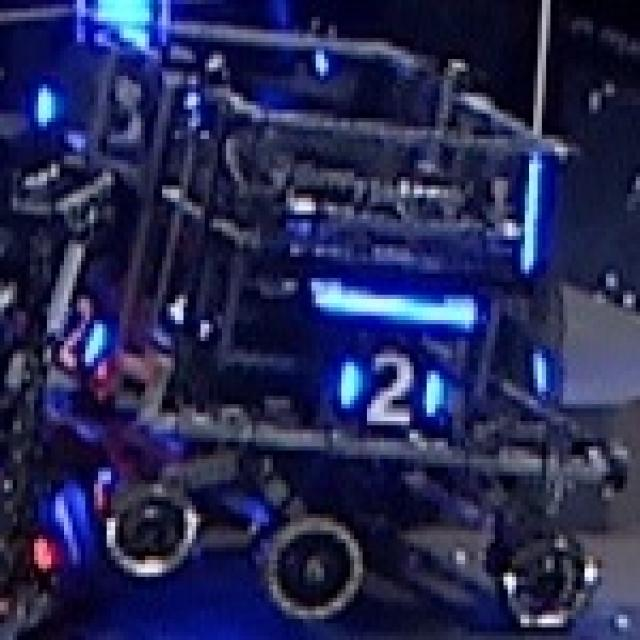B2: (333, 349, 444, 434)
